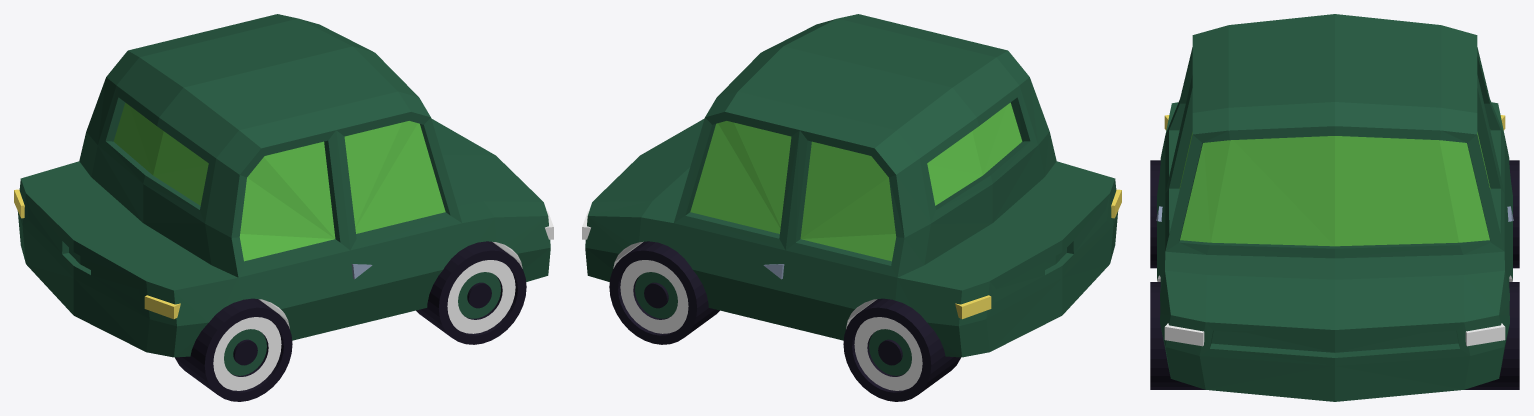
The model's file is car_03.obj.
3 renders of one model, left to right at view 1: azimuth 30°, elevation 25°; view 2: azimuth 150°, elevation 25°; view 3: azimuth 270°, elevation 25°, orthographic. The views are drawn at different scales.
Parts seen in each view (by area): view 1: car03_Cube.004; view 2: car03_Cube.004; view 3: car03_Cube.004.
Part boxes in pixels (bbox=[...]): car03_Cube.004: bbox=[14, 14, 553, 401]; car03_Cube.004: bbox=[582, 14, 1121, 401]; car03_Cube.004: bbox=[1150, 14, 1519, 401].
Size of the model in its own units: 3.64 by 2.02 by 2.59.
